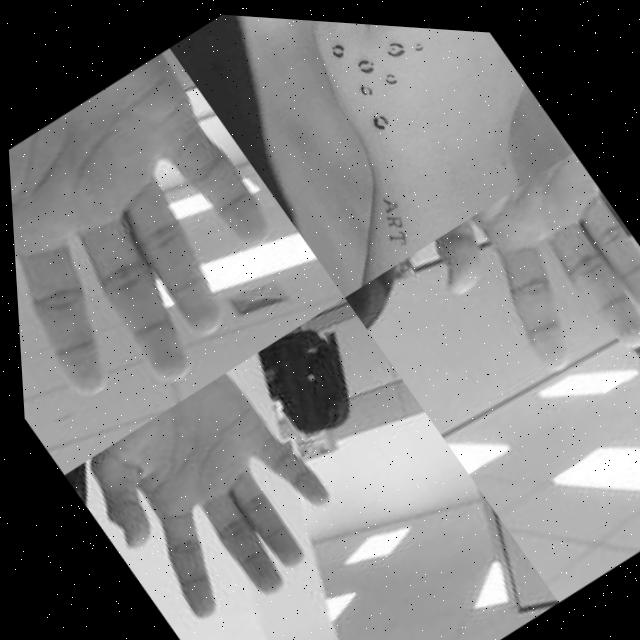hand: (2, 40, 333, 472), (57, 351, 363, 640), (224, 12, 563, 245), (408, 135, 640, 416)
